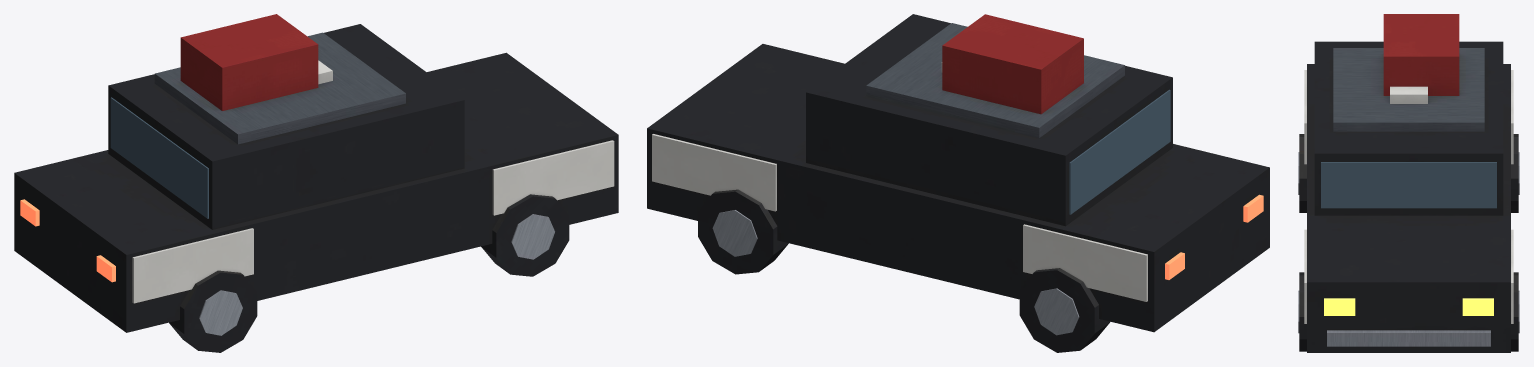
File: taxi_kairo_tex.glb
3 views of the same model, side by side, from view 1: azimuth 30°, elevation 25°; view 2: azimuth 150°, elevation 25°; view 3: azimuth 270°, elevation 25° (orthographic). The views are drawn at different scales.
Parts seen in each view (by area): view 1: taxi_kairo; view 2: taxi_kairo; view 3: taxi_kairo.
Boxes of the visible parts, bbox=[...] form: taxi_kairo: bbox=[14, 14, 618, 352]; taxi_kairo: bbox=[647, 14, 1269, 352]; taxi_kairo: bbox=[1298, 14, 1519, 352].
Size of the model in its own units: 4.18 by 1.9 by 1.76.
Materials: 10 (7 with a texture image).
